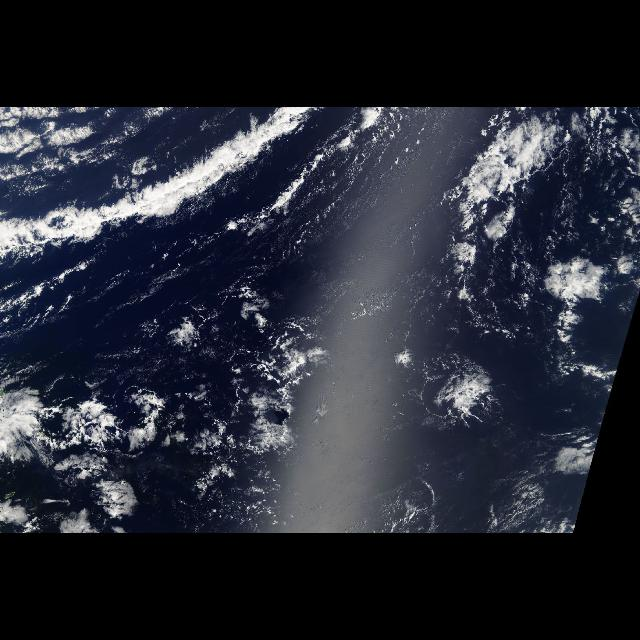Flower: (392, 235, 640, 472)
